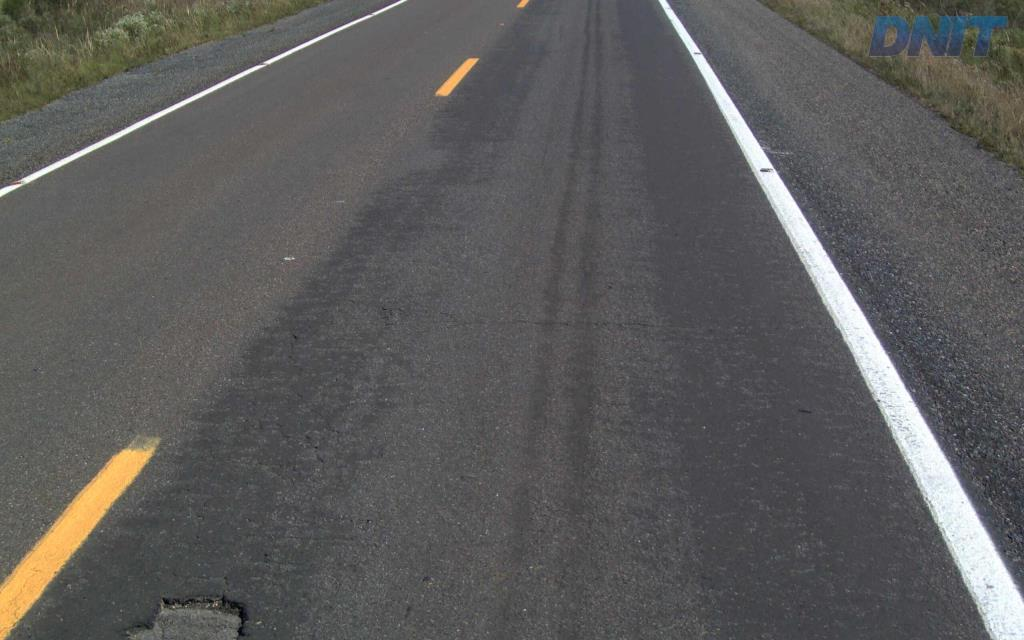pothole: (109, 586, 255, 638)
